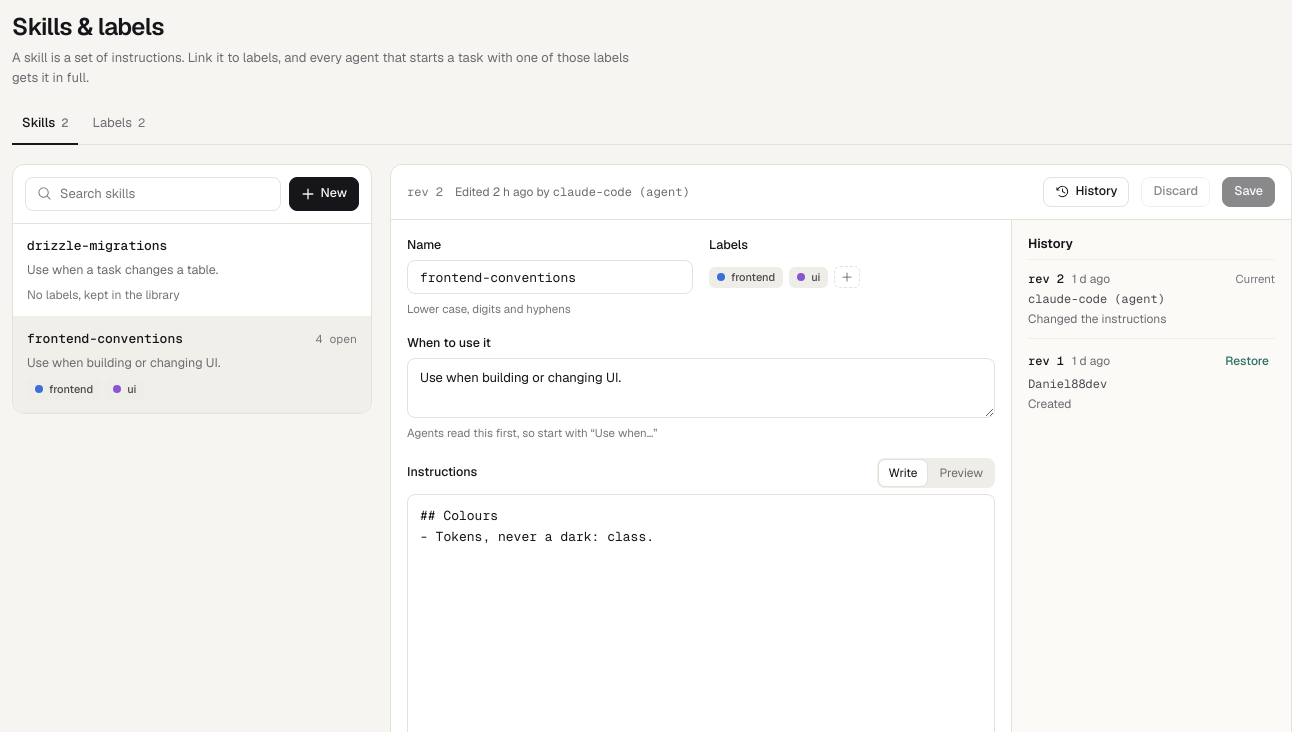
Test: SkillsScreen › previews the instructions as Markdown
Click the button "Preview".
click(961, 472)  # box [929, 460, 993, 486]
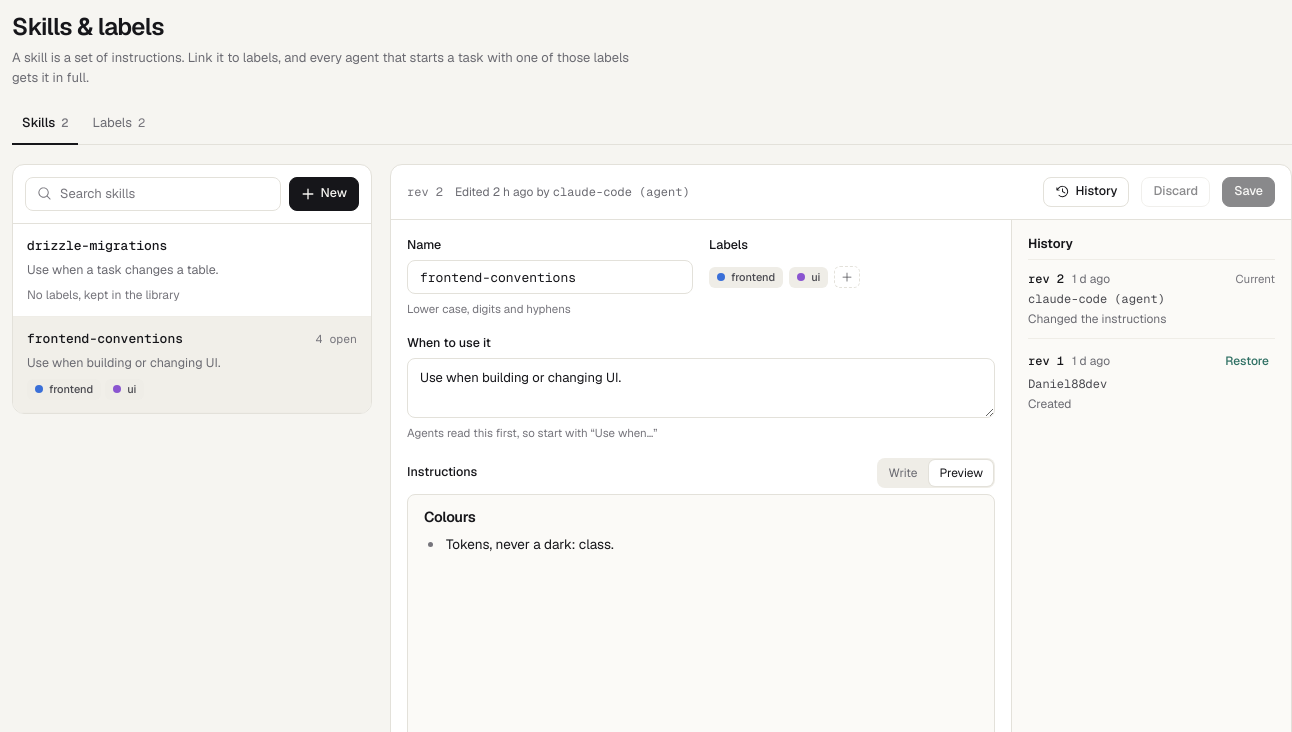
Now the heading "Colours" is shown, box [424, 506, 475, 526]
